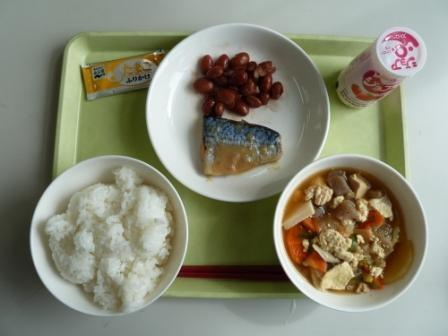Drinkable yogurt: (332, 33, 431, 119)
Fish: (193, 112, 285, 183)
Rice: (27, 154, 184, 313)
Soups: (273, 154, 425, 299)
beans: (178, 44, 291, 118)
